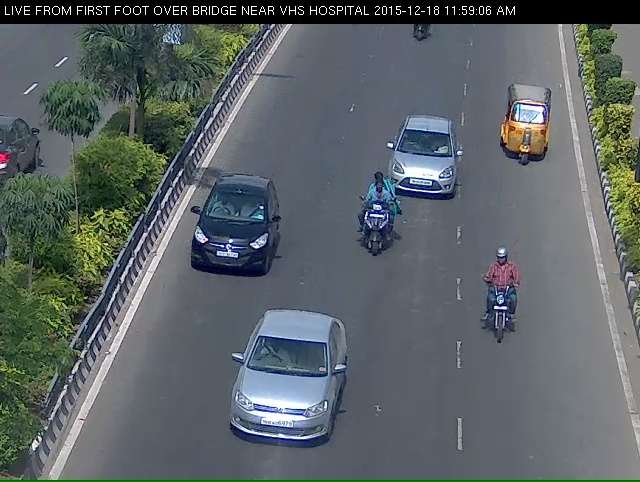Auto: (492, 85, 549, 172)
Car: (208, 336, 346, 479), (194, 184, 276, 293), (387, 121, 467, 209)
Person: (481, 261, 525, 362), (358, 186, 398, 265), (404, 22, 436, 60)
